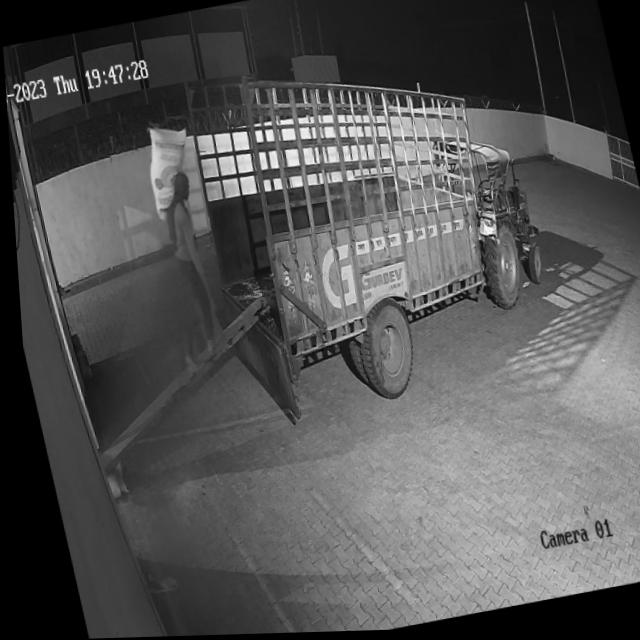sack: (135, 123, 202, 225)
